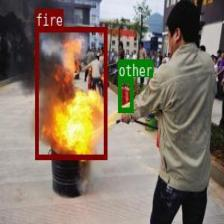fire: (35, 26, 106, 158)
